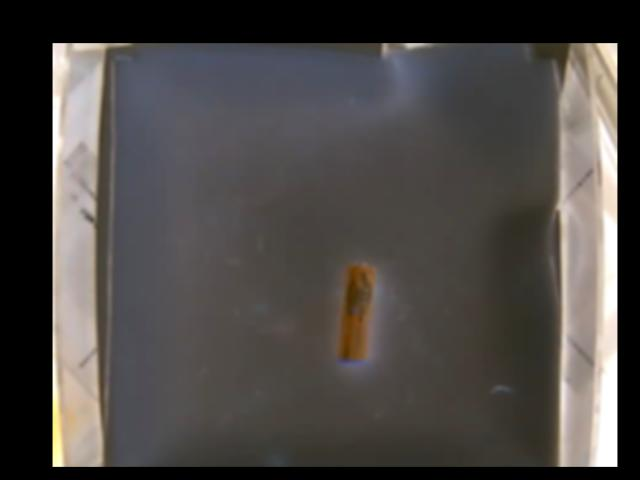Battery: (338, 262, 376, 367)
